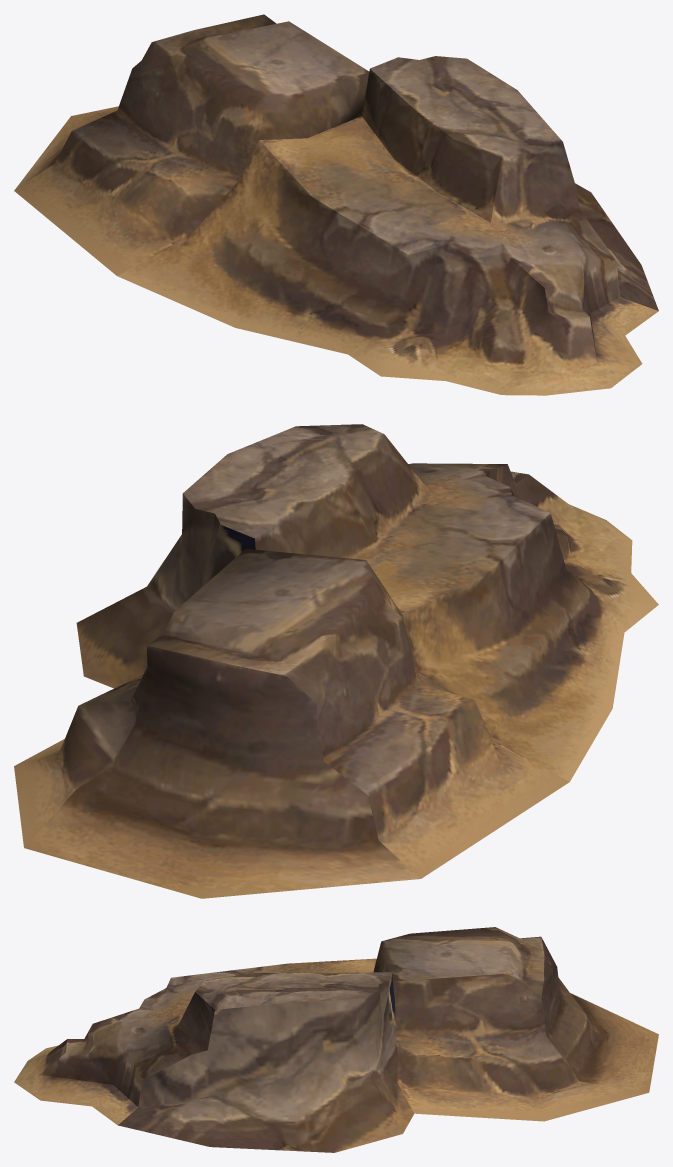
File: sm_shitou_6.FBX
The picture shows the model from 3 angles, top to bottom: view 1: azimuth 30°, elevation 25°; view 2: azimuth 150°, elevation 25°; view 3: azimuth 270°, elevation 25°; orthographic projection. The views are drawn at different scales.
Parts seen in each view (by area): view 1: sm_shitou_6; view 2: sm_shitou_6; view 3: sm_shitou_6.
Boxes of the visible parts, x1,y1,x2,y2 form: sm_shitou_6: (14, 14, 658, 395); sm_shitou_6: (14, 424, 658, 898); sm_shitou_6: (14, 927, 658, 1152).
Size of the model in its own units: 53.45 by 17.73 by 86.8.
